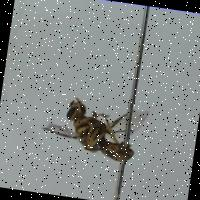Oriental-fruit-fly: (33, 90, 154, 167)
